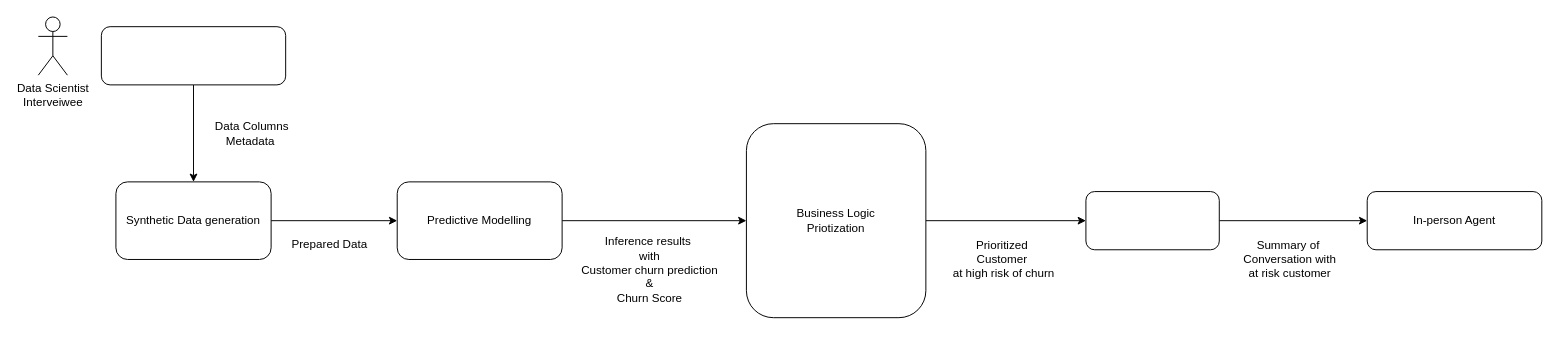
This 1559x354 diagram has some shape labels left out. Each missing label, with the box of its shape:
Frame the Business Problem Into a Machine Learning Problem: (100, 26, 286, 85)
GenAI Chatbot Intervention: (1085, 191, 1219, 250)
